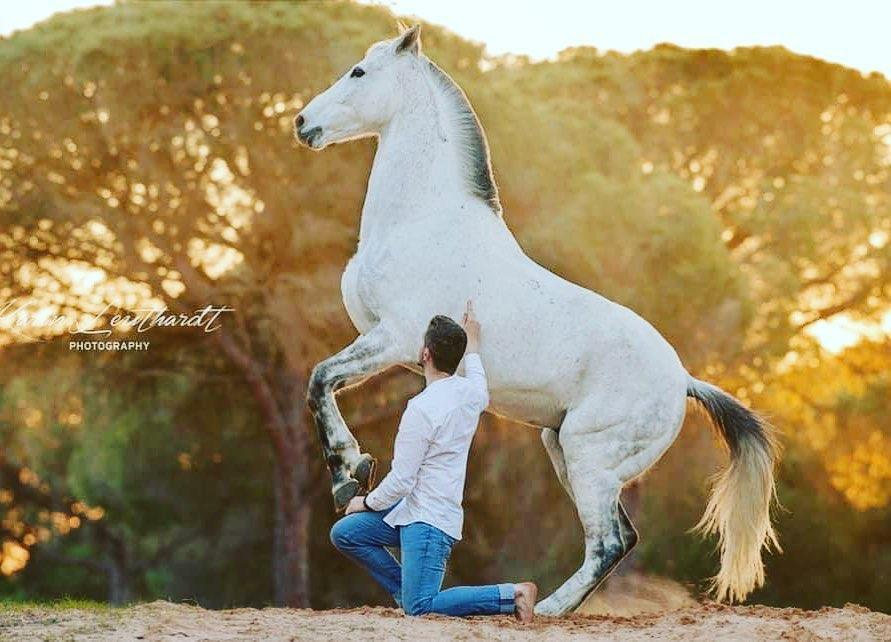horse: (293, 18, 787, 618)
